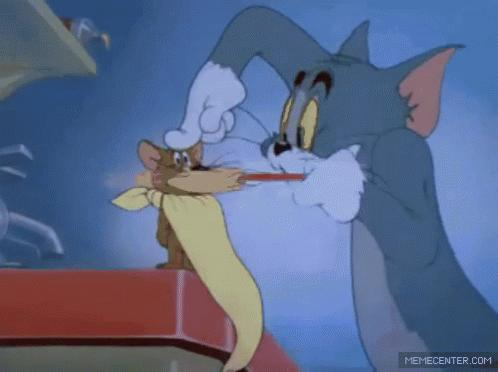jerry: (135, 139, 213, 273)
